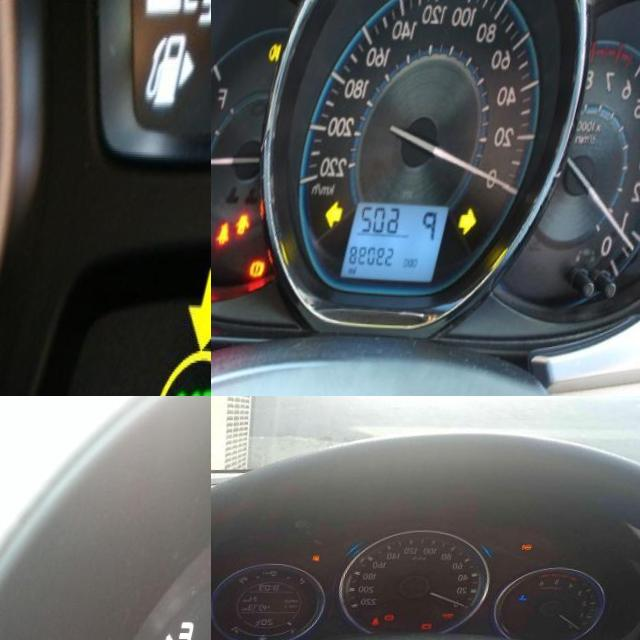Seat Belt: (237, 221, 255, 245)
